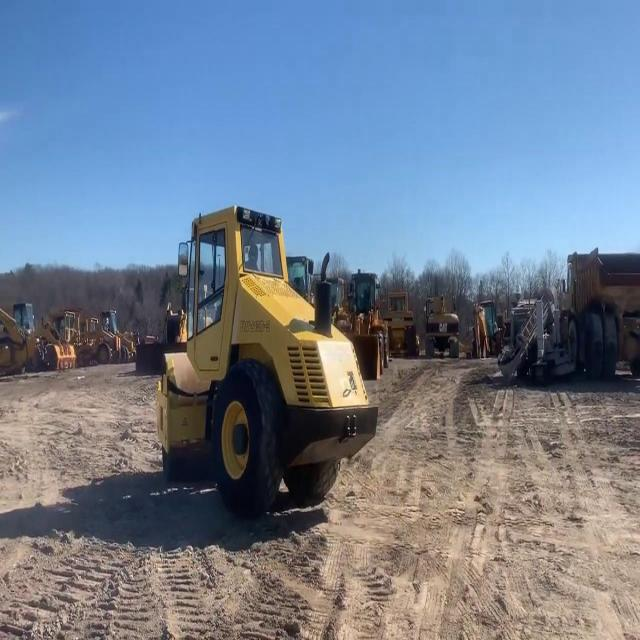Roller: (158, 201, 380, 507)
